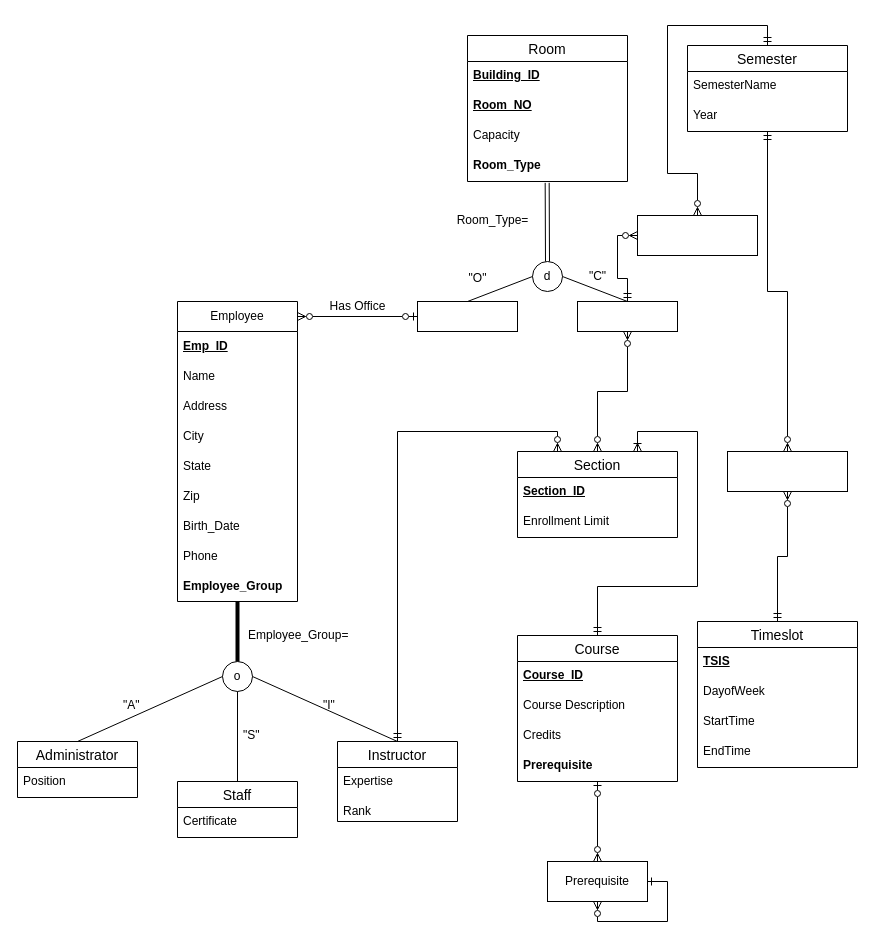
Image size: 875x948. Some labels were removed from this diagram. The shapes that lost their labels are listed below. From the top down, each one's centre as x and y in pixels, then its label:
(697,235): Classroom Schedule
(467,316): Office
(627,316): Classroom
(787,471): Timeslot Schedule
